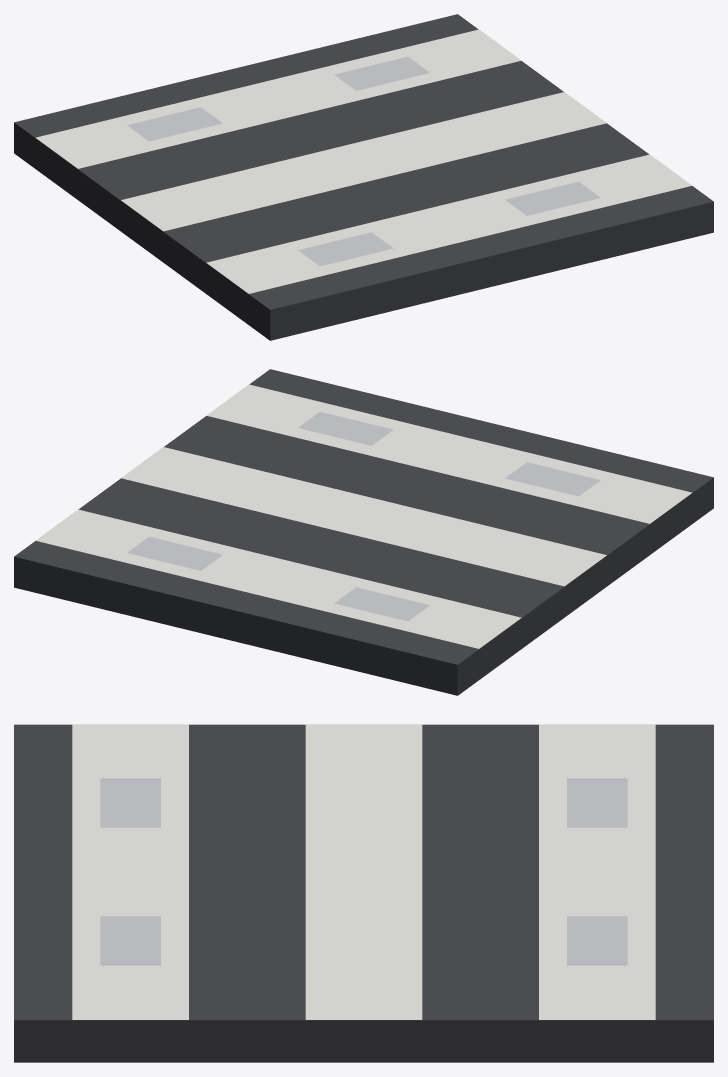
The model's file is SC_Gnd_Road_Crosswalk_3x3.gltf.
3 views of the same model, one above another, from view 1: azimuth 30°, elevation 25°; view 2: azimuth 150°, elevation 25°; view 3: azimuth 270°, elevation 25° (orthographic). The views are drawn at different scales.
Parts seen in each view (by area): view 1: SC_Gnd_Road_Crosswalk_3x3; view 2: SC_Gnd_Road_Crosswalk_3x3; view 3: SC_Gnd_Road_Crosswalk_3x3.
Part boxes in pixels (x1,y1,x2,y2): SC_Gnd_Road_Crosswalk_3x3: [14, 14, 713, 340]; SC_Gnd_Road_Crosswalk_3x3: [14, 369, 713, 695]; SC_Gnd_Road_Crosswalk_3x3: [14, 724, 713, 1062].
Bounding box in the file's own units: 3 × 0.2028 × 3.
1 material, 1 textured.
